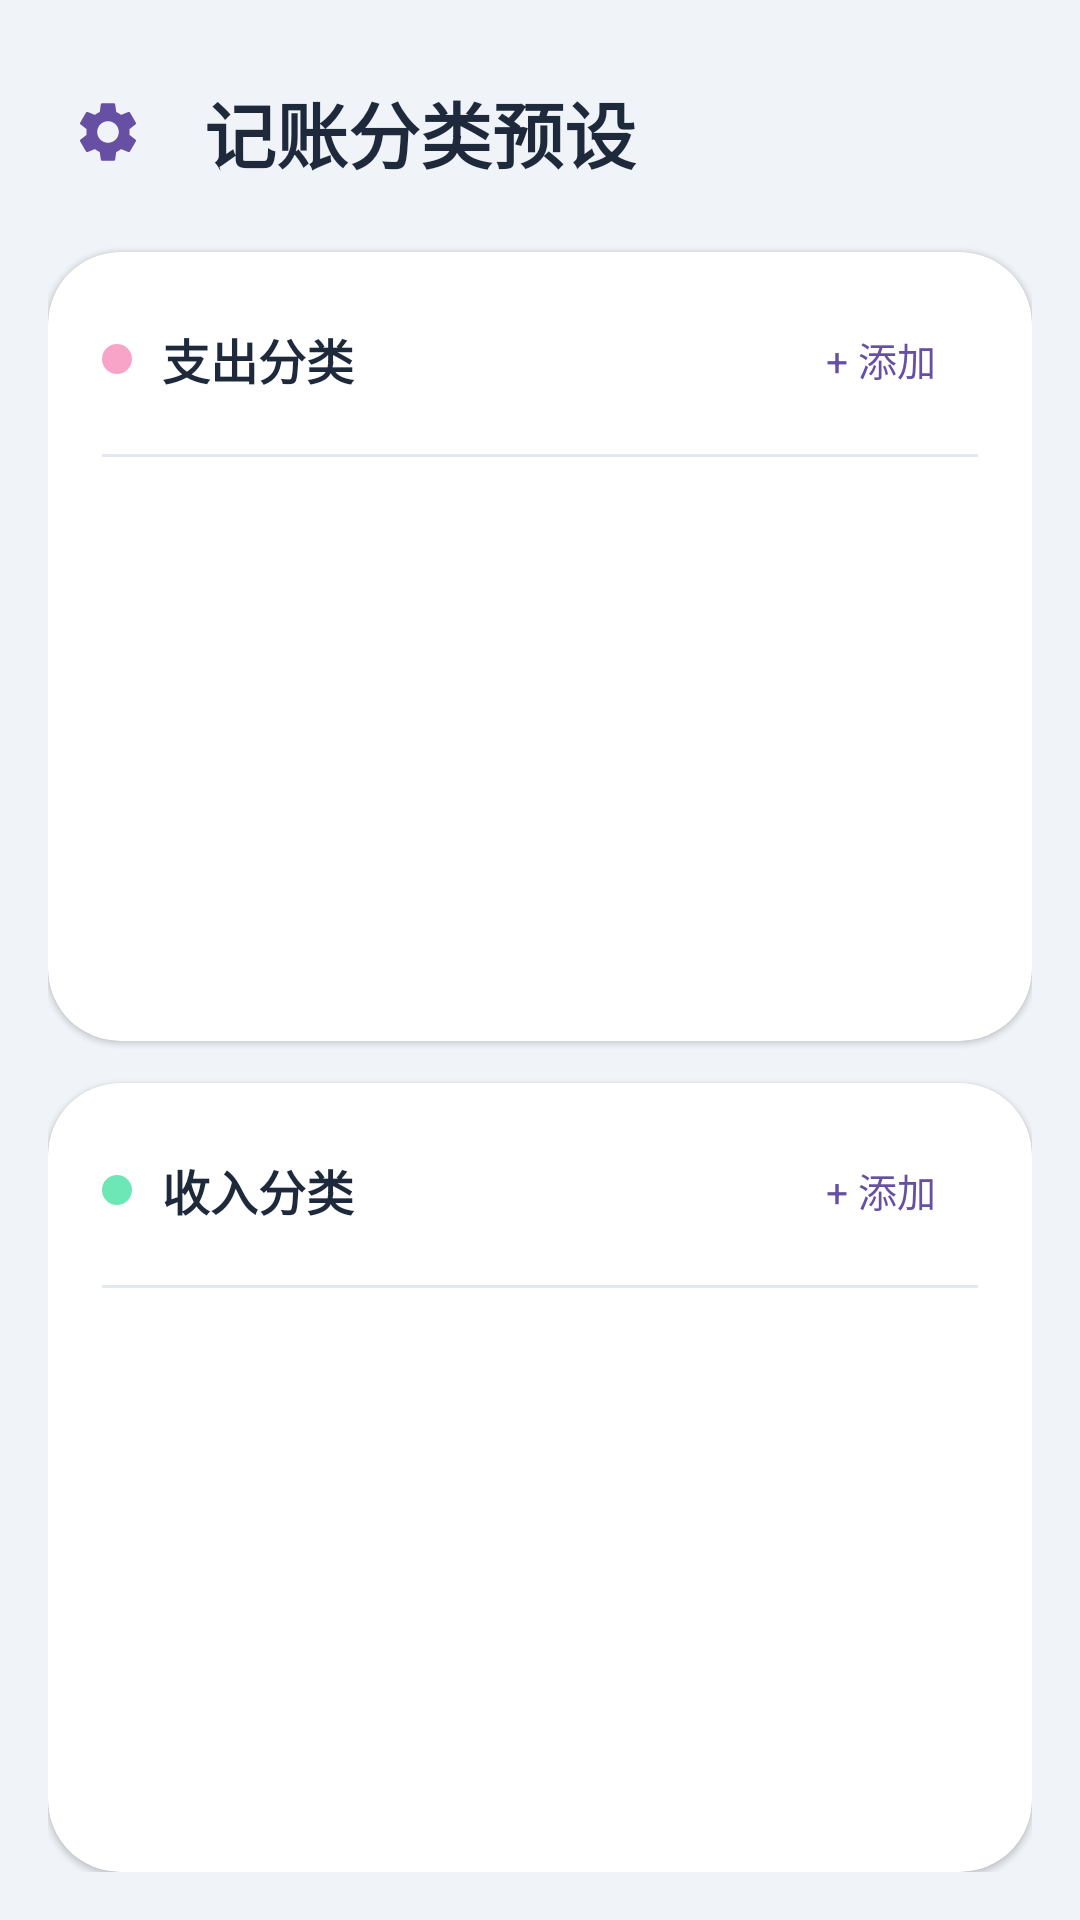

Icon bounding boxes for this 1080x1920 phone screenshot, format box=[x1, y1, x2, y2]:
settings: box=[80, 103, 136, 161]
